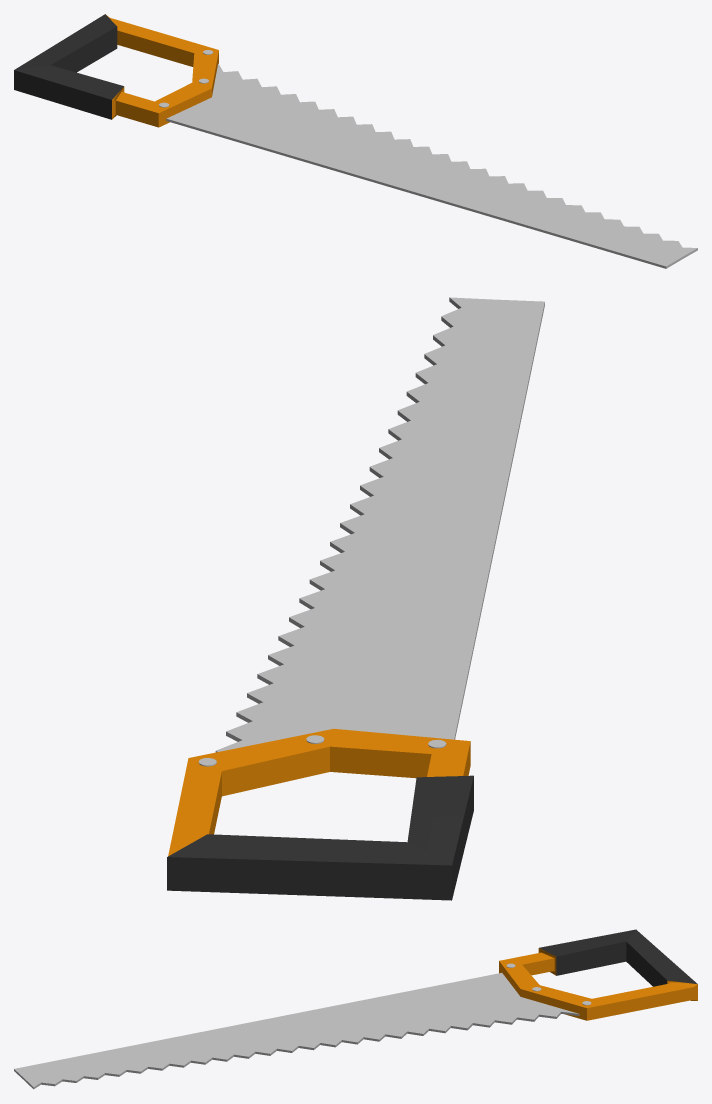
3 renders of one model, top to bottom at view 1: azimuth 30°, elevation 25°; view 2: azimuth 150°, elevation 25°; view 3: azimuth 270°, elevation 25°, orthographic. The views are drawn at different scales.
Parts seen in each view (by area): view 1: Box003, Box004; view 2: Box003, Box004; view 3: Box003, Box004.
Part boxes in pixels (left/top/right/bottom): Box003: left=166, top=63, right=697, bottom=268; Box004: left=14, top=14, right=218, bottom=127; Box003: left=215, top=297, right=544, bottom=752; Box004: left=167, top=728, right=473, bottom=900; Box003: left=14, top=973, right=579, bottom=1089; Box004: left=499, top=929, right=697, bottom=1020.
Size of the model in its own units: 327201 by 20943 by 640670.
